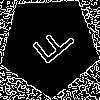F: (24, 21, 77, 73)
